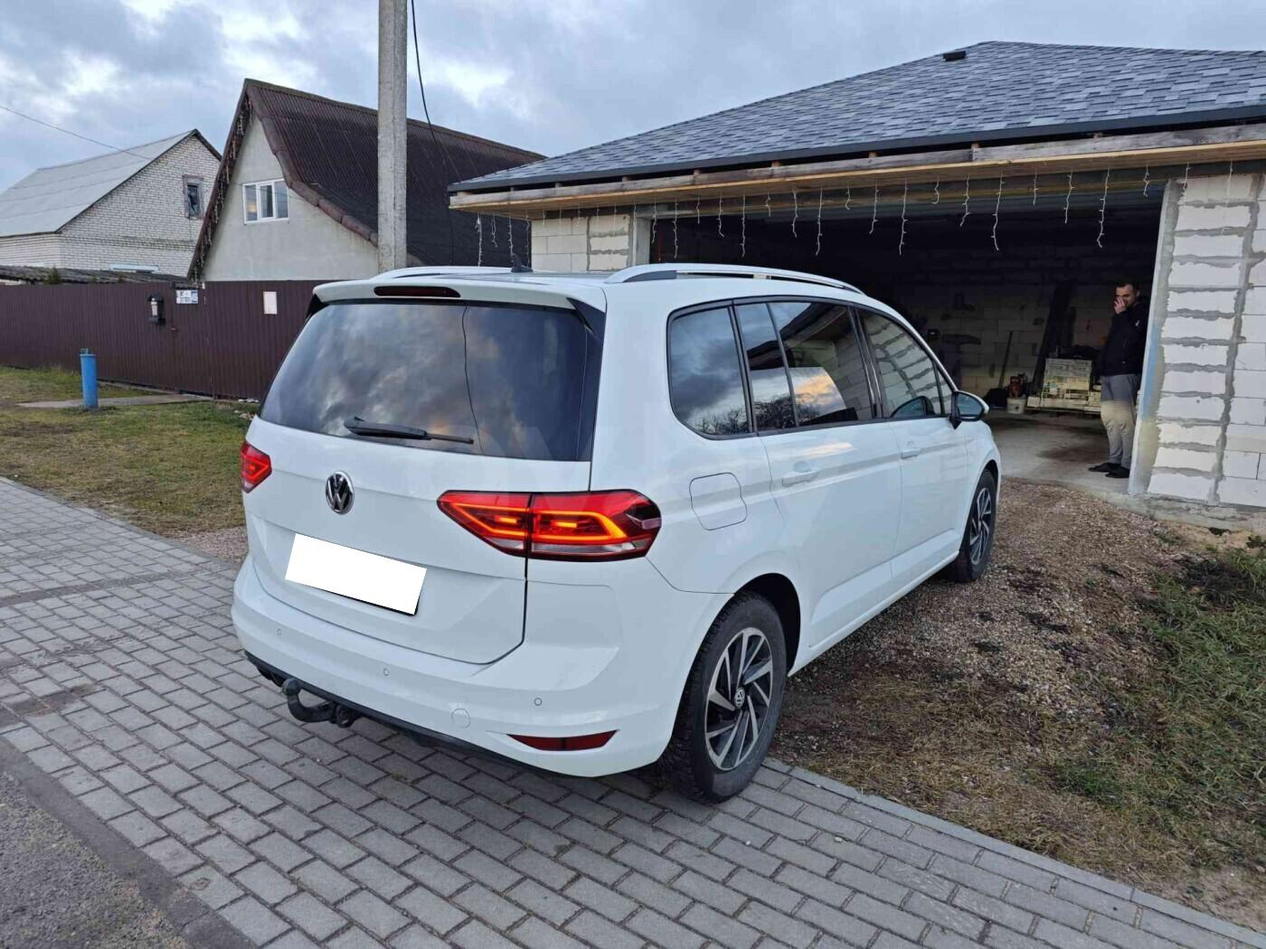Touran_2015: (234, 265, 1008, 804)
